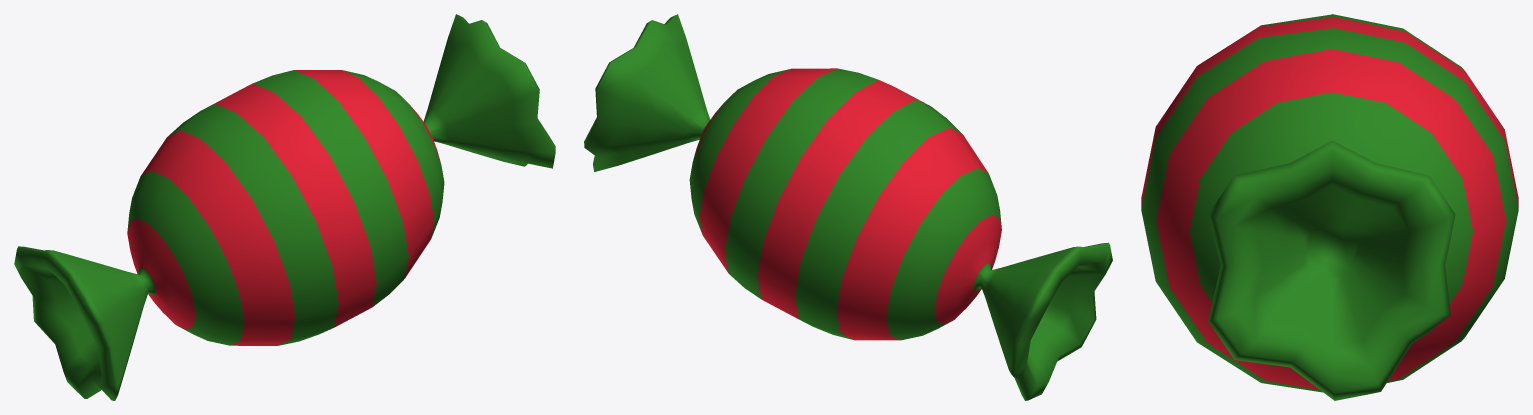
File: candy.glb
The picture shows the model from 3 angles, left to right: view 1: azimuth 30°, elevation 25°; view 2: azimuth 150°, elevation 25°; view 3: azimuth 270°, elevation 25°; orthographic projection. The views are drawn at different scales.
Visible parts, largest first — view 1: Cylinder.085; view 2: Cylinder.085; view 3: Cylinder.085.
Part boxes in pixels (<box>): Cylinder.085: <box>14,14,555,400</box>; Cylinder.085: <box>584,14,1112,400</box>; Cylinder.085: <box>1141,14,1518,400</box>.
Size of the model in its own units: 1.83 by 1.03 by 0.8552.
